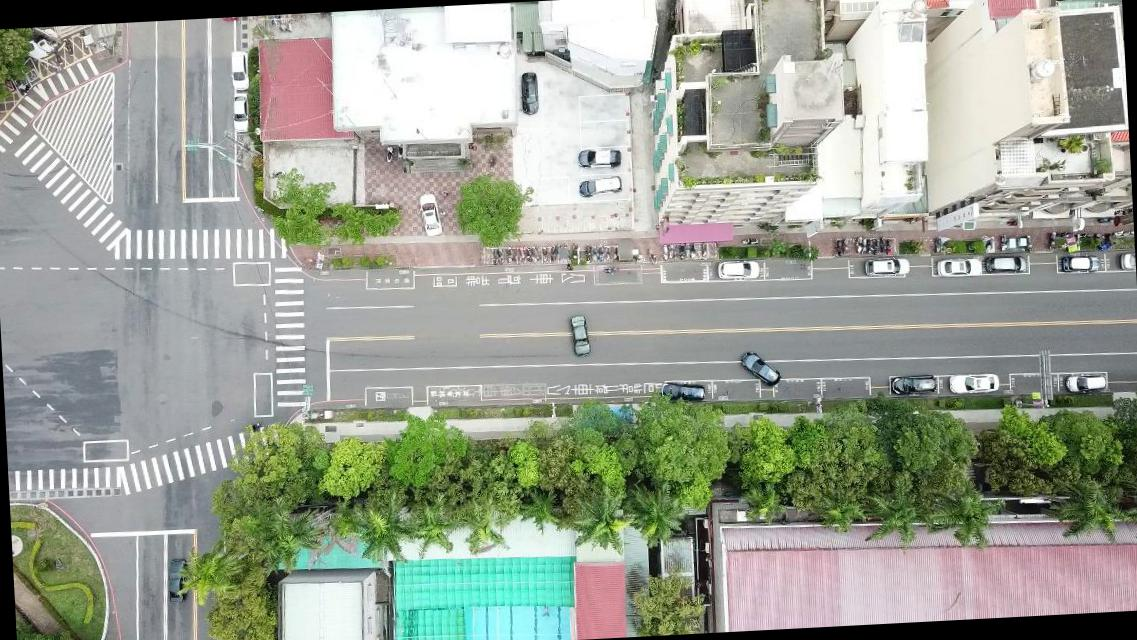vehicle: (739, 349, 781, 388), (948, 372, 1000, 396), (419, 192, 444, 236), (576, 175, 622, 198), (660, 380, 706, 403), (575, 147, 623, 169), (862, 256, 910, 278), (518, 70, 541, 115), (890, 373, 937, 395), (568, 314, 591, 358), (983, 254, 1027, 277), (717, 259, 760, 282), (934, 258, 982, 278), (167, 558, 187, 606), (1058, 253, 1100, 275), (1064, 373, 1106, 393), (229, 50, 248, 91), (233, 94, 248, 134), (1118, 252, 1134, 270)
